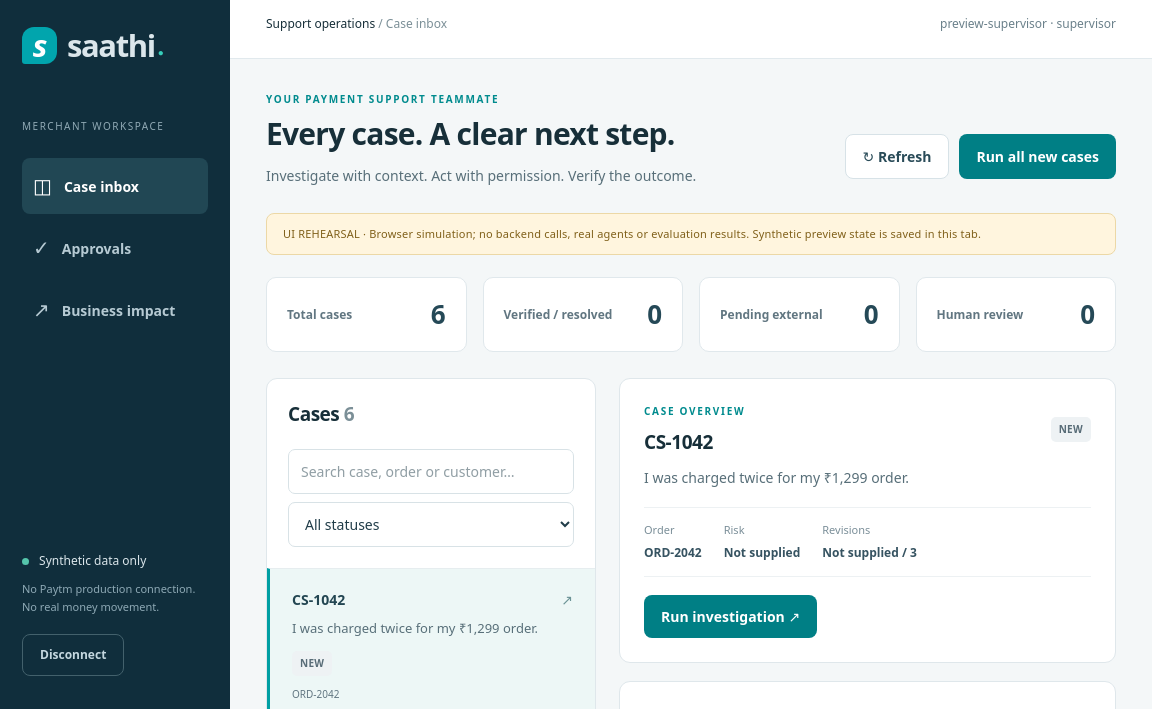
it: support workspace › never presents browser rehearsal as measured evaluation
Expected: the button "Run investigation ↗" is shown, [644, 595, 817, 638]
What coordinates should you click on to do the following:
click the button "↗ Business impact"
I would click on:
 (115, 310)
Its box is [22, 282, 208, 338].
(page scrolled)
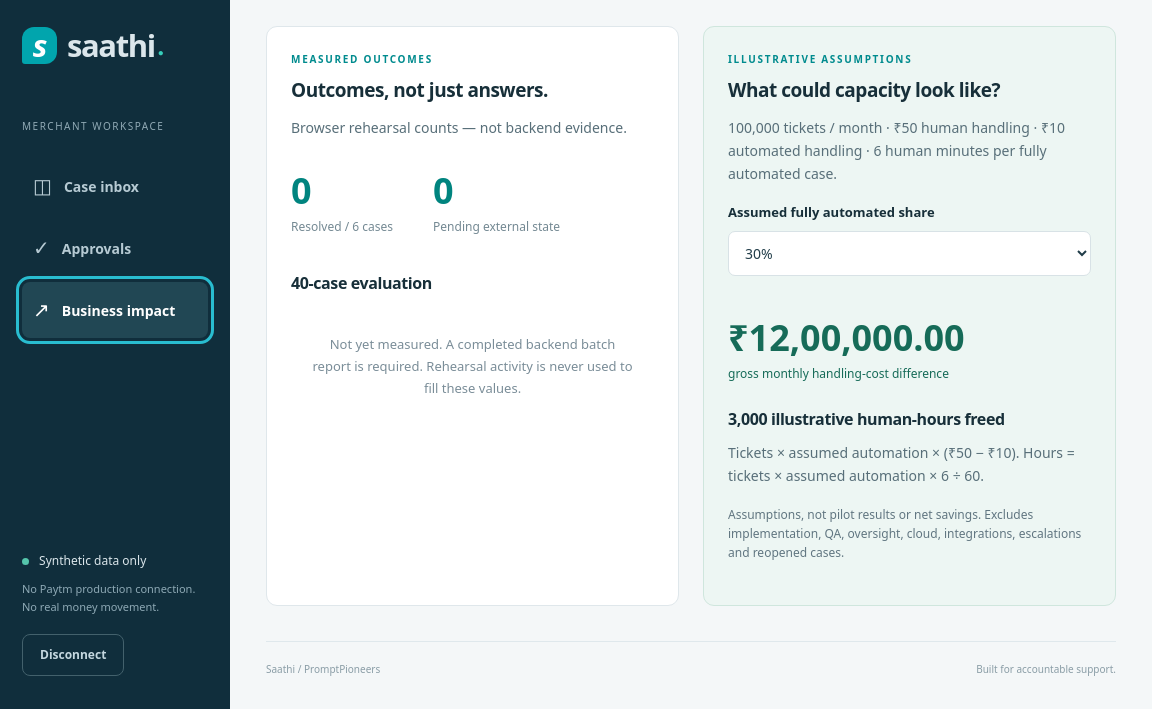
Expected: the text "Not yet measured" is shown, [312, 335, 633, 397]
